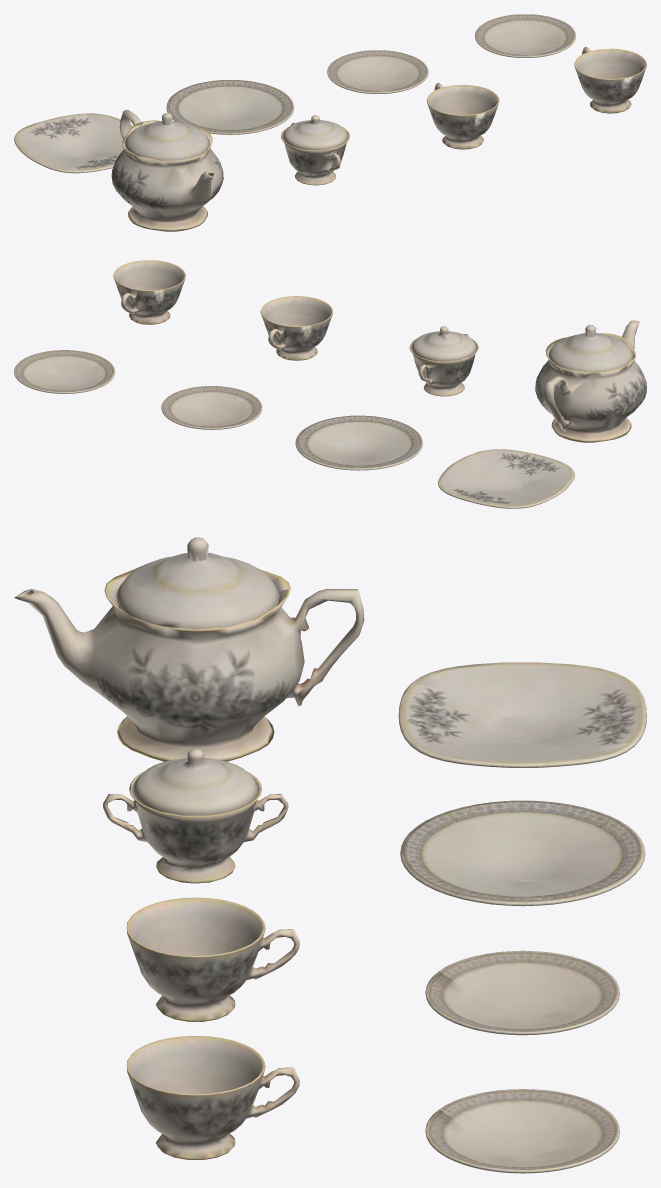
The model's file is tea_set_01.a6a7c49f.glb.
3 views of the same model, one above another, from view 1: azimuth 30°, elevation 25°; view 2: azimuth 150°, elevation 25°; view 3: azimuth 270°, elevation 25° (orthographic). The views are drawn at different scales.
Visible parts, largest first — view 1: tea_set_01_teapot_01, tea_set_01_plate_large_circular_03, tea_set_01_plate_large_square_01, tea_set_01_cup_small_01, tea_set_01_saucer_circular_04, tea_set_01_cup_small_02, tea_set_01_saucer_circular_03, tea_set_01_teapot_01_lid, tea_set_01_sugar_cup_01, tea_set_01_sugar_cup_01_lid; view 2: tea_set_01_teapot_01, tea_set_01_plate_large_square_01, tea_set_01_plate_large_circular_03, tea_set_01_cup_small_01, tea_set_01_cup_small_02, tea_set_01_saucer_circular_04, tea_set_01_saucer_circular_03, tea_set_01_teapot_01_lid, tea_set_01_sugar_cup_01, tea_set_01_sugar_cup_01_lid; view 3: tea_set_01_teapot_01, tea_set_01_plate_large_square_01, tea_set_01_plate_large_circular_03, tea_set_01_cup_small_01, tea_set_01_cup_small_02, tea_set_01_saucer_circular_03, tea_set_01_saucer_circular_04, tea_set_01_teapot_01_lid, tea_set_01_sugar_cup_01, tea_set_01_sugar_cup_01_lid.
Part boxes in pixels (x1=…): tea_set_01_teapot_01: x1=111, y1=109, x2=223, y2=231; tea_set_01_plate_large_circular_03: x1=166, y1=79, x2=294, y2=134; tea_set_01_plate_large_square_01: x1=14, y1=113, x2=133, y2=173; tea_set_01_cup_small_01: x1=426, y1=83, x2=499, y2=149; tea_set_01_saucer_circular_04: x1=327, y1=50, x2=428, y2=93; tea_set_01_cup_small_02: x1=574, y1=47, x2=646, y2=113; tea_set_01_saucer_circular_03: x1=474, y1=14, x2=576, y2=57; tea_set_01_teapot_01_lid: x1=124, y1=112, x2=209, y2=160; tea_set_01_sugar_cup_01: x1=281, y1=122, x2=349, y2=185; tea_set_01_sugar_cup_01_lid: x1=282, y1=115, x2=348, y2=150; tea_set_01_teapot_01: x1=535, y1=320, x2=646, y2=442; tea_set_01_plate_large_square_01: x1=438, y1=449, x2=574, y2=508; tea_set_01_plate_large_circular_03: x1=295, y1=415, x2=422, y2=470; tea_set_01_cup_small_01: x1=260, y1=296, x2=332, y2=360; tea_set_01_cup_small_02: x1=113, y1=260, x2=185, y2=324; tea_set_01_saucer_circular_04: x1=161, y1=386, x2=262, y2=429; tea_set_01_saucer_circular_03: x1=14, y1=350, x2=115, y2=393; tea_set_01_teapot_01_lid: x1=548, y1=325, x2=633, y2=371; tea_set_01_sugar_cup_01: x1=409, y1=334, x2=478, y2=396; tea_set_01_sugar_cup_01_lid: x1=411, y1=326, x2=477, y2=361; tea_set_01_teapot_01: x1=14, y1=557, x2=364, y2=761; tea_set_01_plate_large_square_01: x1=398, y1=662, x2=646, y2=767; tea_set_01_plate_large_circular_03: x1=400, y1=800, x2=645, y2=906; tea_set_01_cup_small_01: x1=126, y1=897, x2=299, y2=1021; tea_set_01_cup_small_02: x1=126, y1=1036, x2=299, y2=1159; tea_set_01_saucer_circular_03: x1=425, y1=1089, x2=619, y2=1173; tea_set_01_saucer_circular_04: x1=425, y1=950, x2=619, y2=1035; tea_set_01_teapot_01_lid: x1=116, y1=537, x2=279, y2=629; tea_set_01_sugar_cup_01: x1=103, y1=771, x2=288, y2=883; tea_set_01_sugar_cup_01_lid: x1=132, y1=748, x2=259, y2=815.
Size of the model in its own units: 0.95 by 0.1707 by 0.5006.
1 material, 1 textured.
